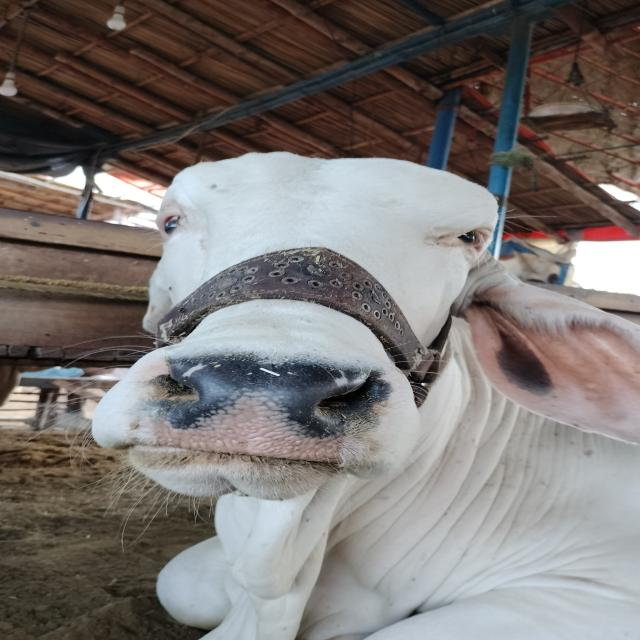muzzles: (114, 348, 398, 484)
